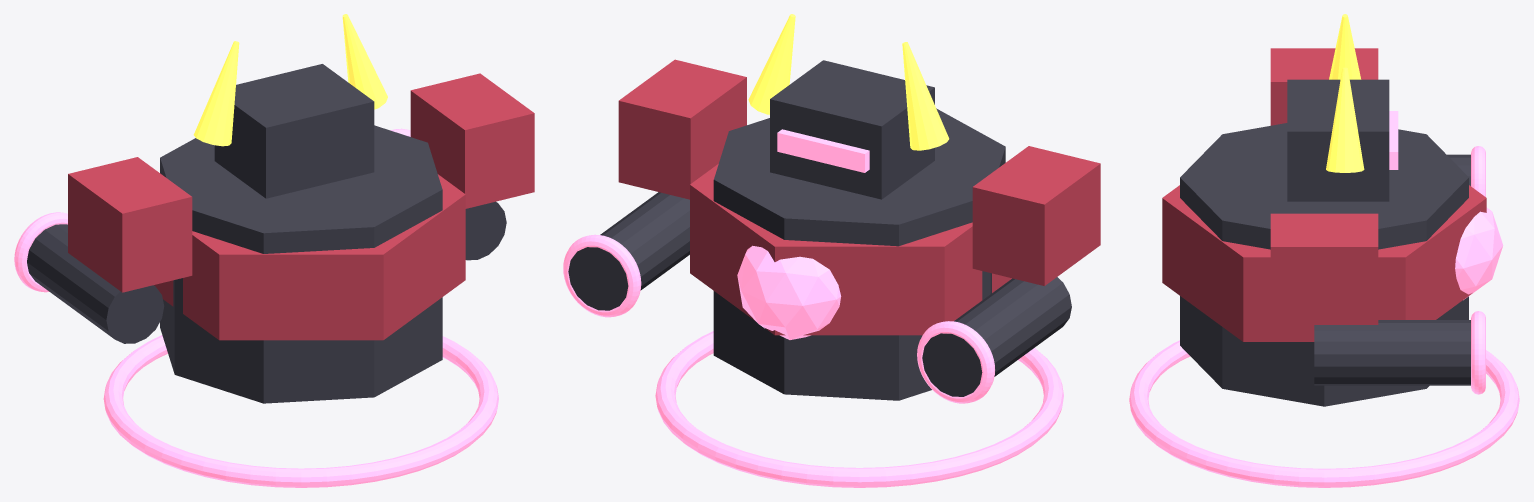
Rendered from boss_mecha_titan.glb.
The picture shows the model from 3 angles, left to right: view 1: azimuth 30°, elevation 25°; view 2: azimuth 150°, elevation 25°; view 3: azimuth 270°, elevation 25°; orthographic projection. The views are drawn at different scales.
Parts seen in each view (by area): view 1: Cylinder, Cylinder.001, Cube, Cube.002, Cube.003, Torus.002, Cylinder.002, Cone, Cylinder.003, Cone.001, Torus; view 2: Cylinder, Cylinder.001, Cube.002, Cube, Cube.003, Torus.002, Cylinder.002, Cylinder.003, Icosphere, Cone, Cube.001, Torus (+2 smaller); view 3: Cylinder, Cylinder.001, Cube.003, Torus.002, Cube, Cylinder.003, Cube.002, Icosphere, Cone.001, Torus.001, Cone, Torus (+1 smaller).
Boxes of the visible parts, x1=… form: Cylinder: x1=160, y1=125, x2=442, y2=403; Cylinder.001: x1=154, y1=174, x2=465, y2=340; Cube: x1=214, y1=64, x2=374, y2=198; Cube.002: x1=68, y1=157, x2=192, y2=292; Cube.003: x1=410, y1=73, x2=534, y2=208; Torus.002: x1=103, y1=335, x2=498, y2=487; Cylinder.002: x1=27, y1=224, x2=164, y2=343; Cone: x1=193, y1=41, x2=239, y2=146; Cylinder.003: x1=465, y1=201, x2=506, y2=260; Cone.001: x1=342, y1=14, x2=387, y2=109; Torus: x1=14, y1=212, x2=67, y2=292; Cylinder: x1=713, y1=108, x2=1005, y2=400; Cylinder.001: x1=690, y1=164, x2=1011, y2=335; Cube.002: x1=972, y1=146, x2=1100, y2=285; Cube: x1=770, y1=60, x2=934, y2=199; Cube.003: x1=618, y1=59, x2=746, y2=199; Torus.002: x1=655, y1=331, x2=1063, y2=487; Cylinder.002: x1=922, y1=277, x2=1071, y2=396; Cylinder.003: x1=568, y1=192, x2=689, y2=310; Icosphere: x1=737, y1=245, x2=841, y2=339; Cone: x1=902, y1=42, x2=949, y2=150; Cube.001: x1=777, y1=129, x2=869, y2=172; Torus: x1=917, y1=321, x2=994, y2=403; Cylinder: x1=1180, y1=123, x2=1468, y2=406; Cylinder.001: x1=1162, y1=185, x2=1486, y2=341; Cube.003: x1=1270, y1=213, x2=1378, y2=324; Torus.002: x1=1129, y1=340, x2=1519, y2=487; Cube: x1=1287, y1=79, x2=1389, y2=201; Cylinder.003: x1=1314, y1=320, x2=1470, y2=385; Cube.002: x1=1270, y1=48, x2=1378, y2=125; Icosphere: x1=1455, y1=207, x2=1503, y2=300; Cone.001: x1=1326, y1=67, x2=1364, y2=172; Torus.001: x1=1471, y1=311, x2=1485, y2=394; Cone: x1=1329, y1=14, x2=1361, y2=79; Torus: x1=1471, y1=146, x2=1485, y2=196.
Bounding box in the file's own units: 3.45 × 2.95 × 2.84.
